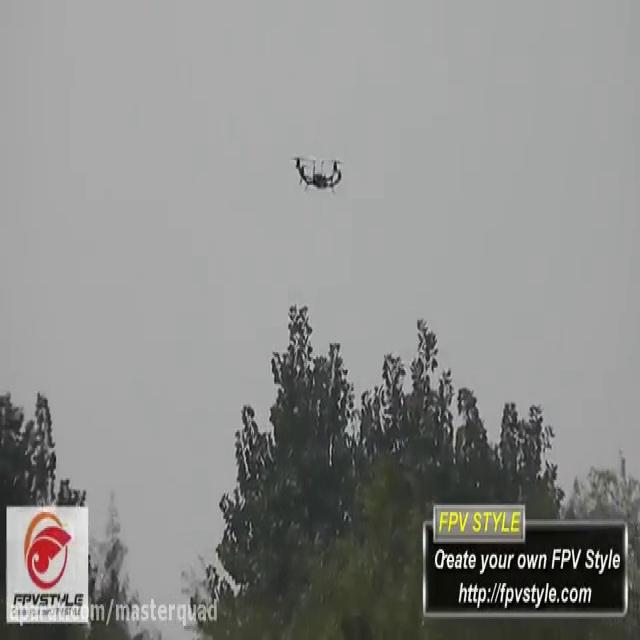drone: (286, 150, 346, 196)
